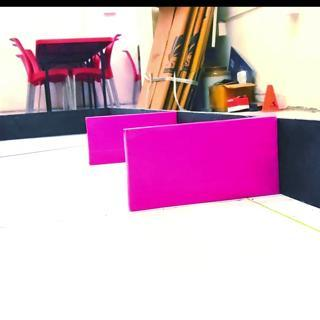xparking: (128, 129, 278, 209), (87, 117, 124, 164)
